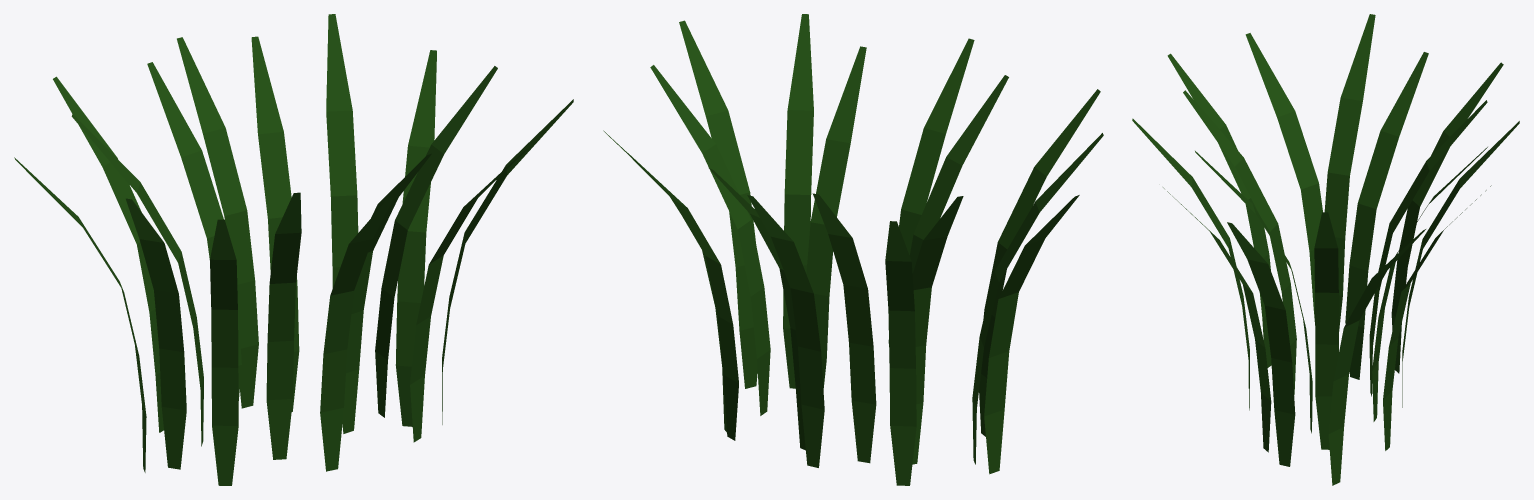
The model's file is Rumput.fbx.
3 renders of one model, left to right at view 1: azimuth 30°, elevation 25°; view 2: azimuth 150°, elevation 25°; view 3: azimuth 270°, elevation 25°, orthographic. The views are drawn at different scales.
Visible parts, largest first — view 1: Plane.012; view 2: Plane.012; view 3: Plane.012.
Part boxes in pixels (x1,y1,x2,y2): Plane.012: (14,14,573,485); Plane.012: (603,14,1103,485); Plane.012: (1132,14,1519,485).
Bounding box in the file's own units: 841 × 575 × 658.
